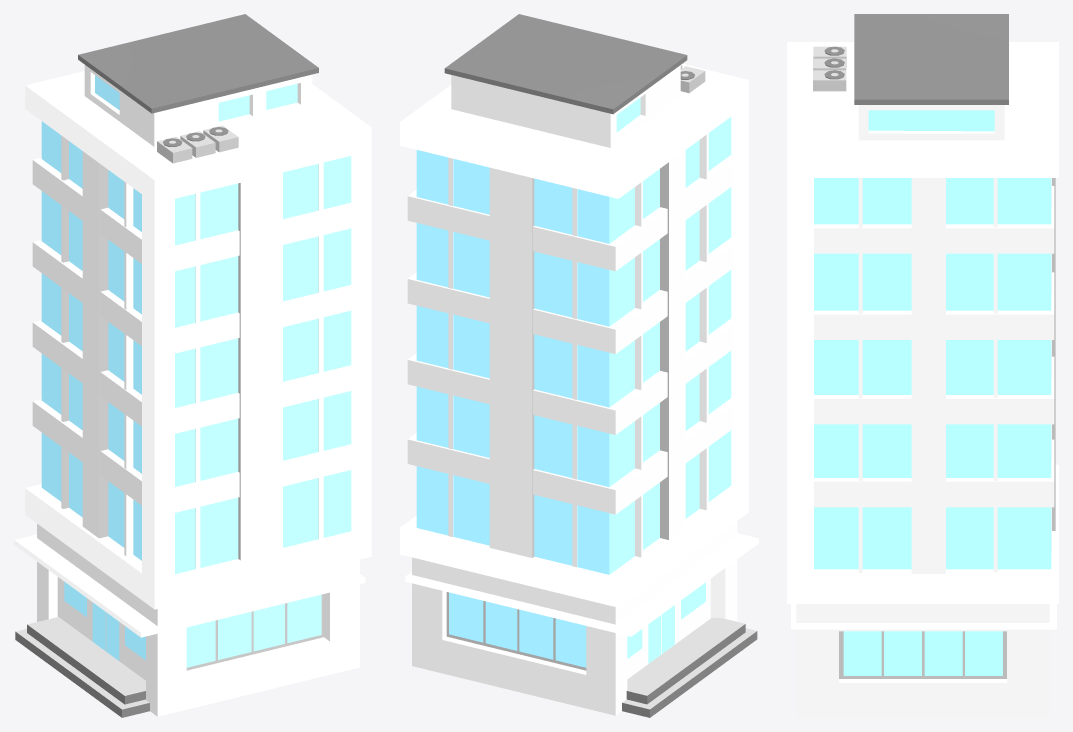
Rendered from tile_for_home_1x1.006 (1).glb.
3 renders of one model, left to right at view 1: azimuth 30°, elevation 25°; view 2: azimuth 150°, elevation 25°; view 3: azimuth 270°, elevation 25°, orthographic. The views are drawn at different scales.
Visible parts, largest first — view 1: apartment.003; view 2: apartment.003; view 3: apartment.003.
Part boxes in pixels (x1,y1,x2,y2): apartment.003: (14,14,371,717); apartment.003: (400,14,758,717); apartment.003: (787,14,1058,717).
Size of the model in its own units: 7.54 by 17.69 by 7.13.
1 material, 1 textured.
